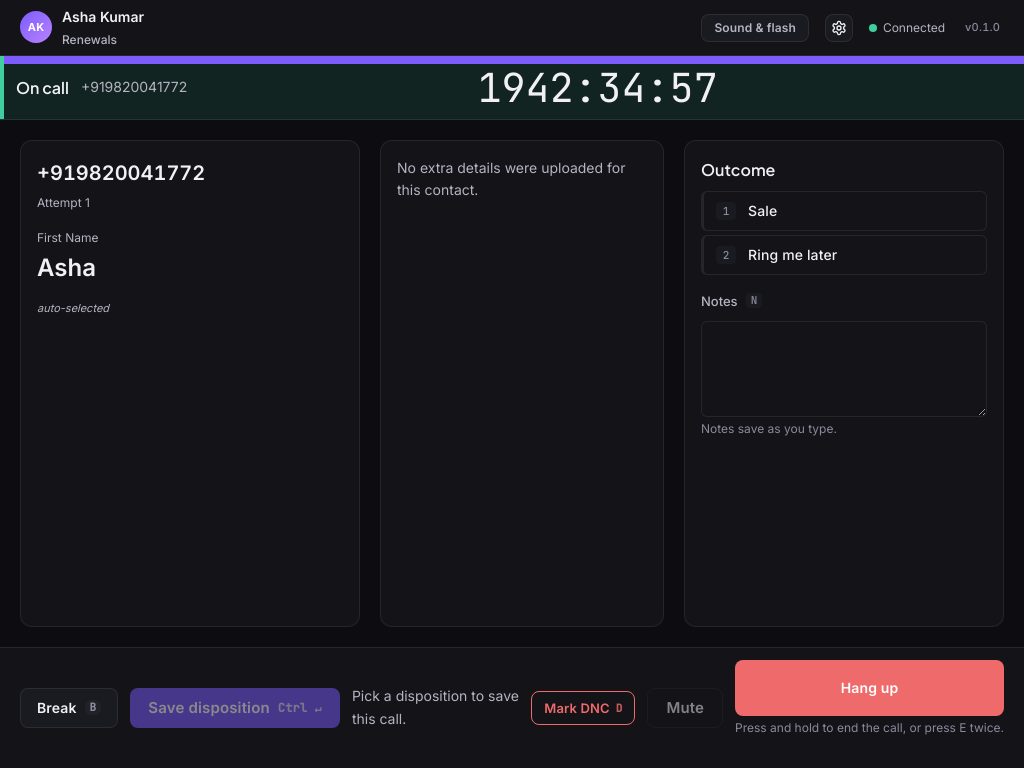
Test case: mark DNC › sends nothing when the agent backs out
Press d
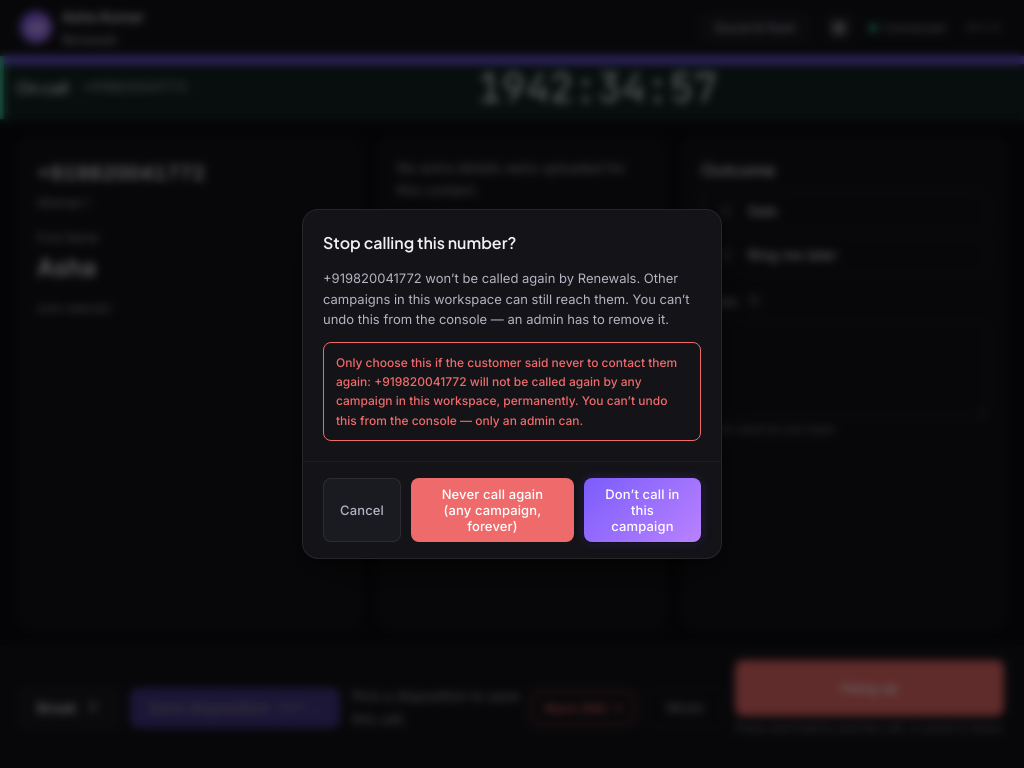
Click the button "Cancel" at x=362, y=510, box x1=323 y1=478 x2=401 y2=542
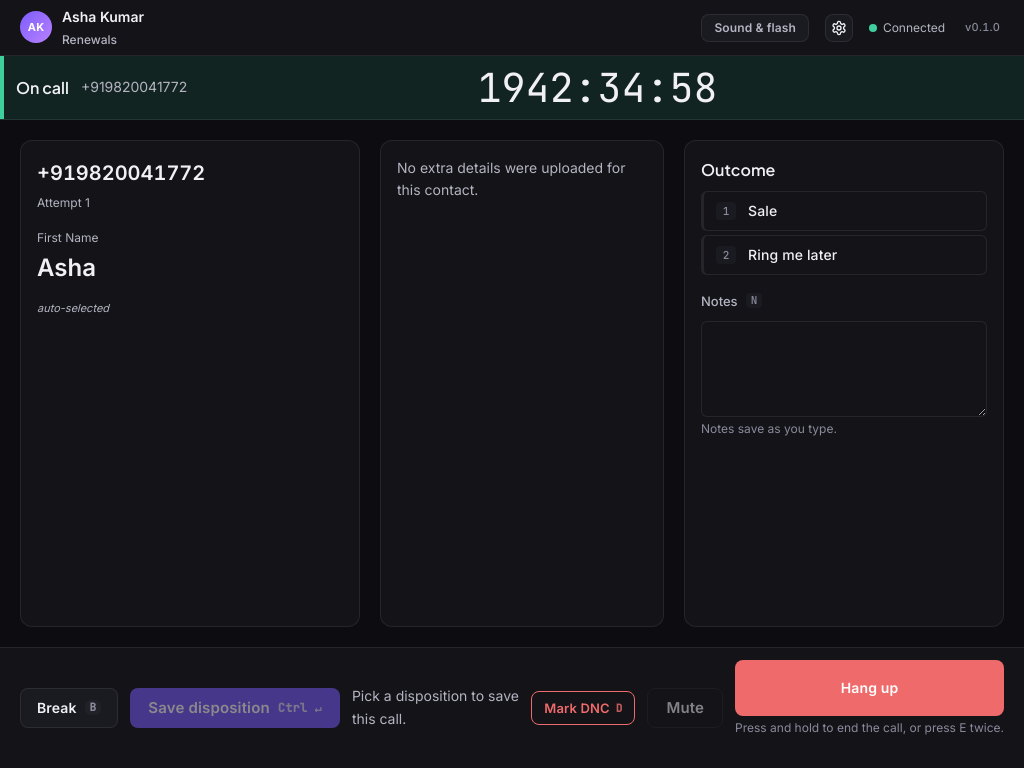
Expected: the heading "Stop calling this number?" is gone
